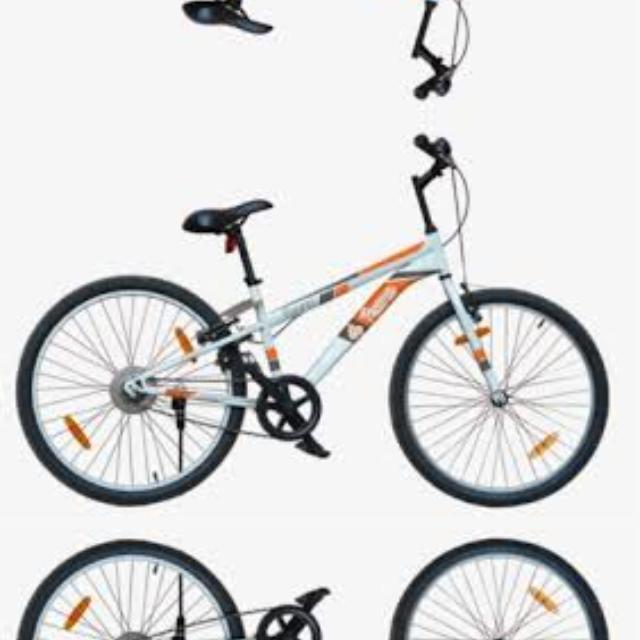obstacle: (10, 122, 622, 510), (10, 0, 622, 109), (10, 534, 622, 640)
